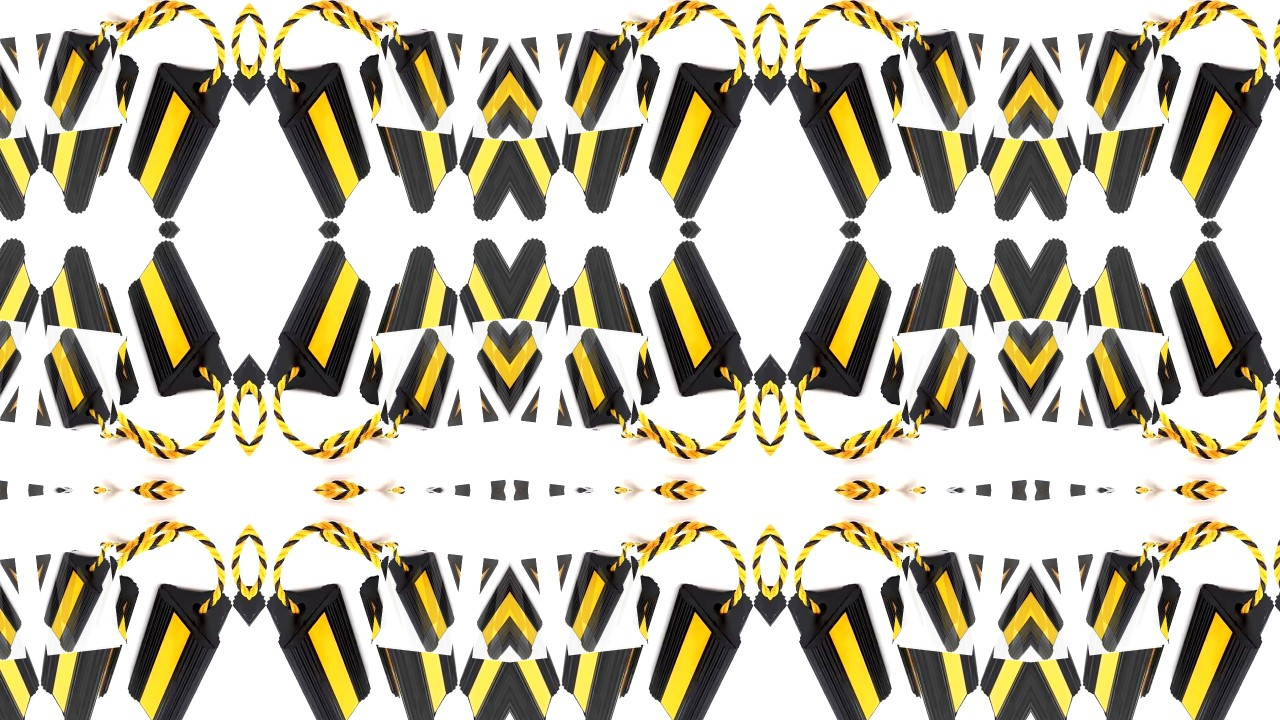chock: (27, 35, 154, 218), (343, 35, 470, 218), (549, 35, 676, 218), (865, 35, 992, 218), (1071, 35, 1198, 218), (27, 241, 154, 424), (343, 241, 470, 424), (549, 241, 676, 424), (865, 241, 992, 424), (1071, 241, 1198, 424), (114, 54, 246, 224), (251, 54, 383, 224), (636, 54, 768, 224), (773, 54, 905, 224), (114, 235, 246, 405), (251, 235, 383, 405), (636, 235, 768, 405), (773, 235, 905, 405), (1158, 54, 1280, 224), (1158, 235, 1280, 405), (27, 557, 154, 720), (343, 557, 470, 720), (549, 557, 676, 720), (865, 557, 992, 720), (1071, 557, 1198, 720), (114, 576, 246, 720), (251, 576, 383, 720), (636, 576, 768, 720), (773, 576, 905, 720), (1158, 576, 1280, 720), (453, 48, 510, 230), (975, 48, 1032, 230), (1031, 48, 1088, 230), (453, 229, 510, 411), (975, 229, 1032, 411), (1031, 229, 1088, 411), (510, 48, 566, 230), (510, 229, 566, 411), (35, 26, 119, 134), (378, 26, 462, 134), (557, 26, 641, 134), (900, 26, 984, 134), (1079, 26, 1163, 134), (35, 325, 119, 433), (378, 325, 462, 433), (557, 325, 641, 433), (900, 325, 984, 433), (1079, 325, 1163, 433), (35, 548, 119, 656), (378, 548, 462, 656), (557, 548, 641, 656), (900, 548, 984, 656), (1079, 548, 1163, 656), (453, 570, 510, 720), (975, 570, 1032, 720), (1031, 570, 1088, 720), (510, 570, 566, 720), (0, 48, 44, 230), (0, 229, 44, 411), (52, 23, 126, 130), (371, 23, 445, 130), (574, 23, 648, 130), (893, 23, 967, 130), (1096, 23, 1170, 130), (52, 329, 126, 436), (371, 329, 445, 436), (574, 329, 648, 436), (893, 329, 967, 436), (1096, 329, 1170, 436), (52, 545, 126, 652), (371, 545, 445, 652), (574, 545, 648, 652), (893, 545, 967, 652), (1096, 545, 1170, 652), (0, 570, 44, 720), (509, 37, 547, 145), (994, 37, 1032, 145), (509, 314, 547, 422), (994, 314, 1032, 422), (509, 559, 547, 667), (994, 559, 1032, 667), (472, 37, 509, 145), (1032, 37, 1069, 145), (472, 314, 509, 422), (1032, 314, 1069, 422), (472, 559, 509, 667), (1032, 559, 1069, 667), (0, 37, 25, 145), (0, 314, 25, 422), (0, 559, 25, 667)
